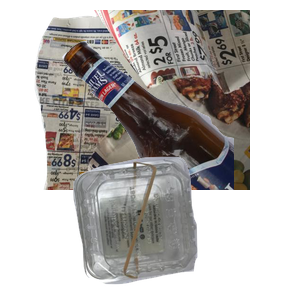glass: (60, 38, 300, 218)
paper: (32, 10, 272, 190)
plastic: (71, 154, 300, 300)
trash: (76, 159, 259, 300)
